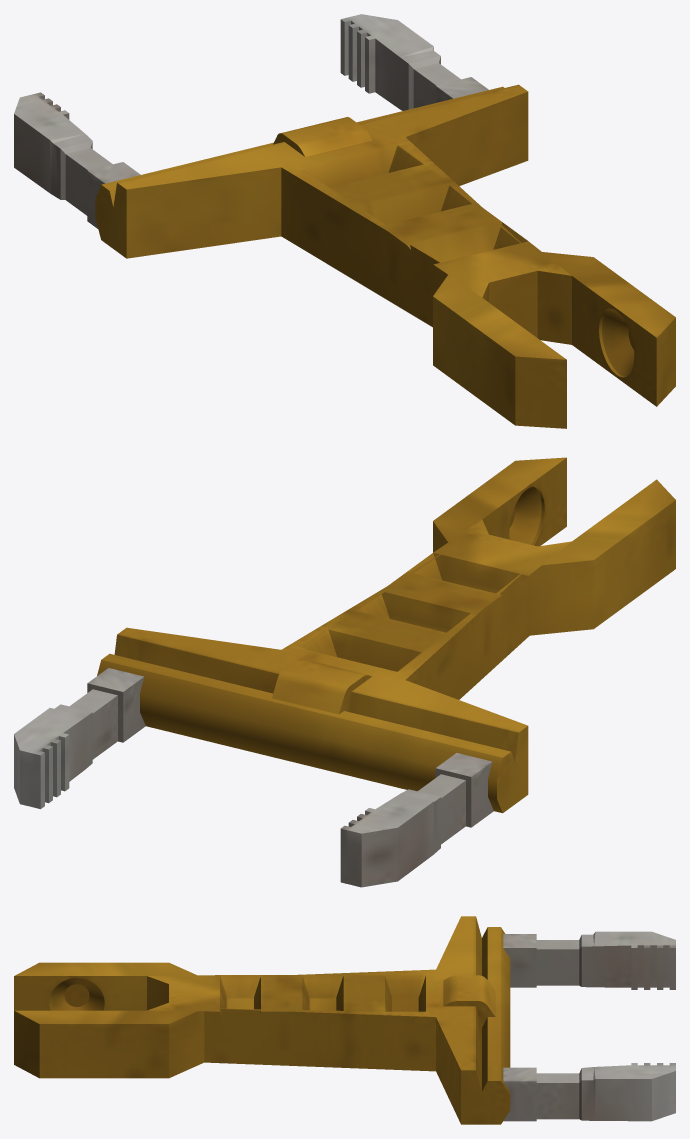
The model's file is inserter-arm-basic-hand-open.glb.
3 renders of one model, top to bottom at view 1: azimuth 30°, elevation 25°; view 2: azimuth 150°, elevation 25°; view 3: azimuth 270°, elevation 25°, orthographic. The views are drawn at different scales.
Parts seen in each view (by area): view 1: body; view 2: body; view 3: body.
Part boxes in pixels (x1,y1,x2,y2): body: [14, 14, 675, 428]; body: [14, 457, 675, 887]; body: [14, 916, 675, 1124].
Bounding box in the file's own units: 0.5492 × 0.099 × 0.9974.
Materials: 2 (2 with a texture image).
